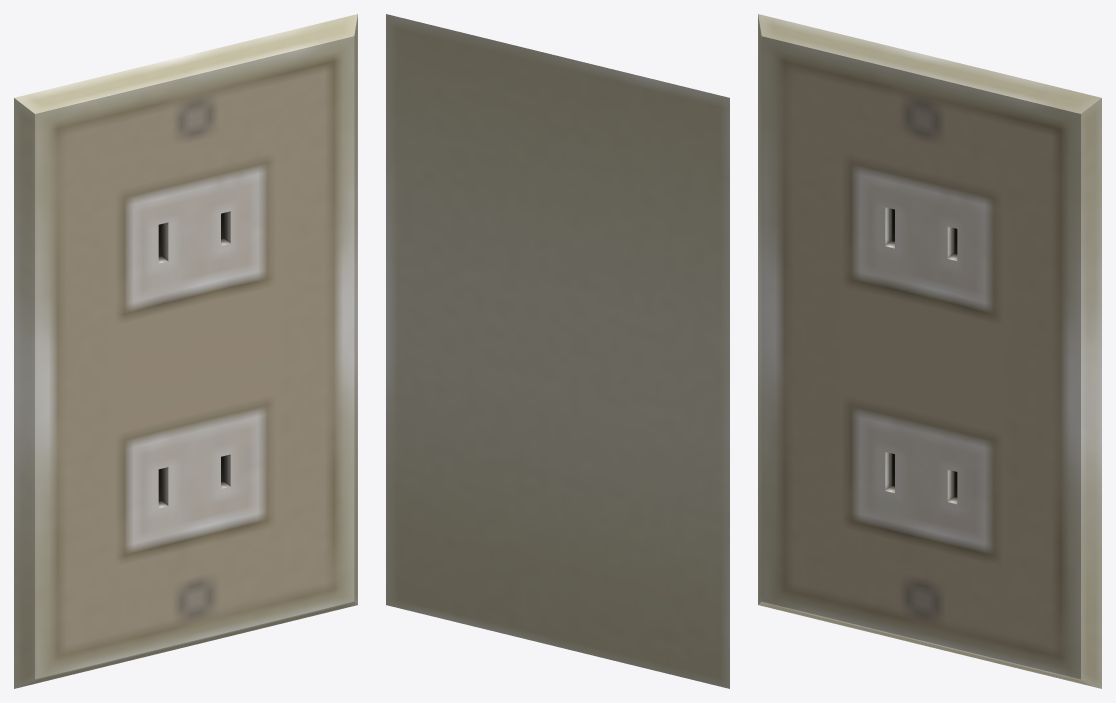
The model's file is Outlet_01_01.fbx.
3 renders of one model, left to right at view 1: azimuth 30°, elevation 25°; view 2: azimuth 150°, elevation 25°; view 3: azimuth 330°, elevation 25°, orthographic.
Parts seen in each view (by area): view 1: outlet_01_01; view 2: outlet_01_01; view 3: outlet_01_01.
Part boxes in pixels (x1,y1,x2,y2): outlet_01_01: [14, 14, 357, 688]; outlet_01_01: [386, 14, 729, 688]; outlet_01_01: [758, 14, 1101, 688].
Bounding box in the file's own units: 7 × 11.5 × 0.3057.
